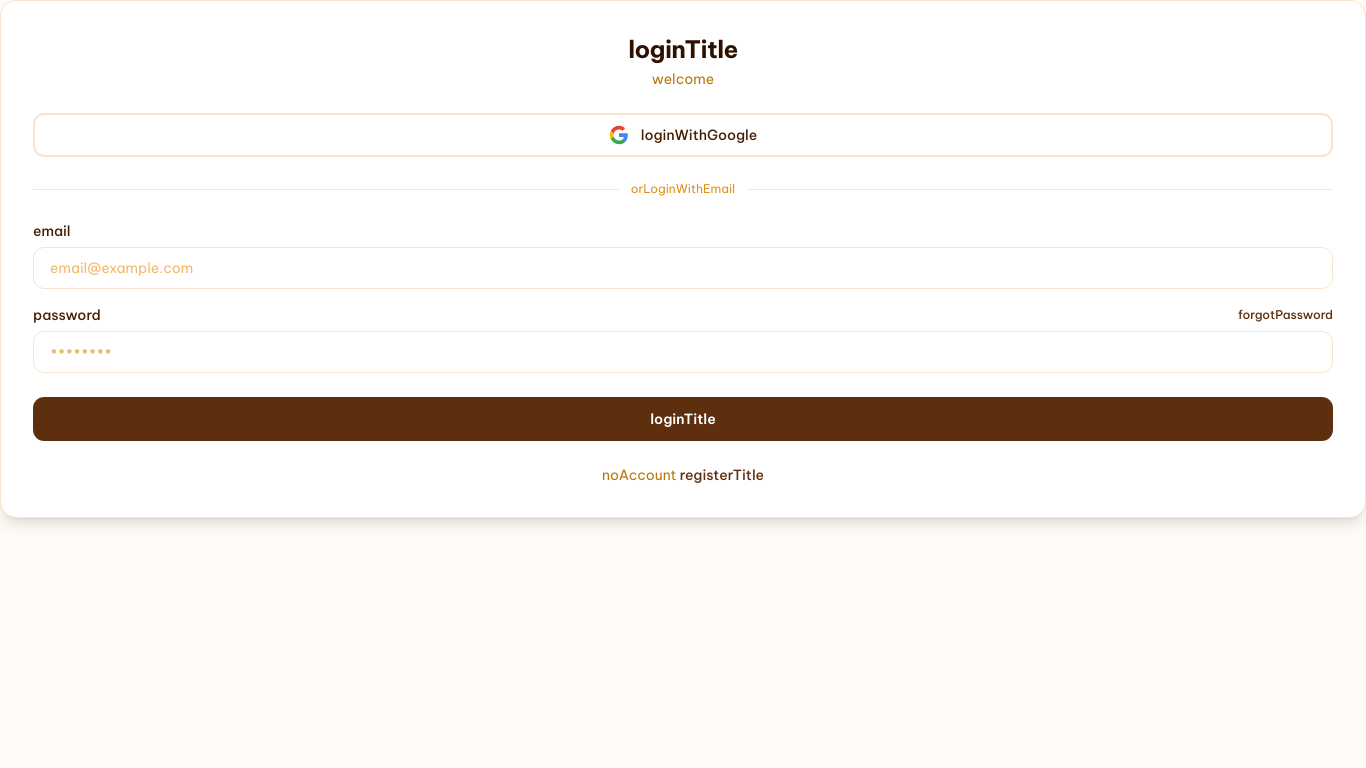
LoginPage — Validation › hiển thị lỗi khi chỉ điền password, bỏ trống email
Type "password123" into the password field labelled "password" at coordinates (683, 352), box top-left (33, 331), bottom-right (1333, 373)
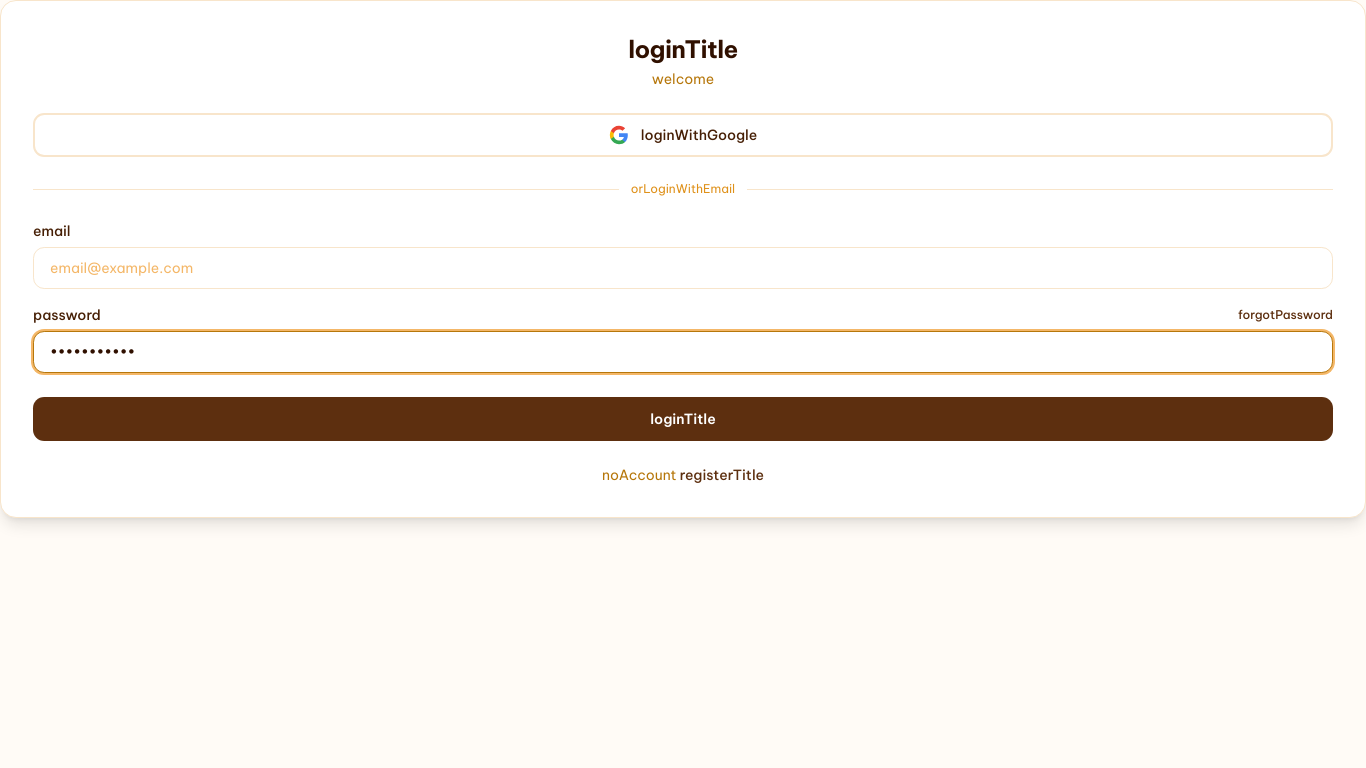
Click the button "loginTitle" at coordinates (683, 419), box top-left (33, 397), bottom-right (1333, 441)
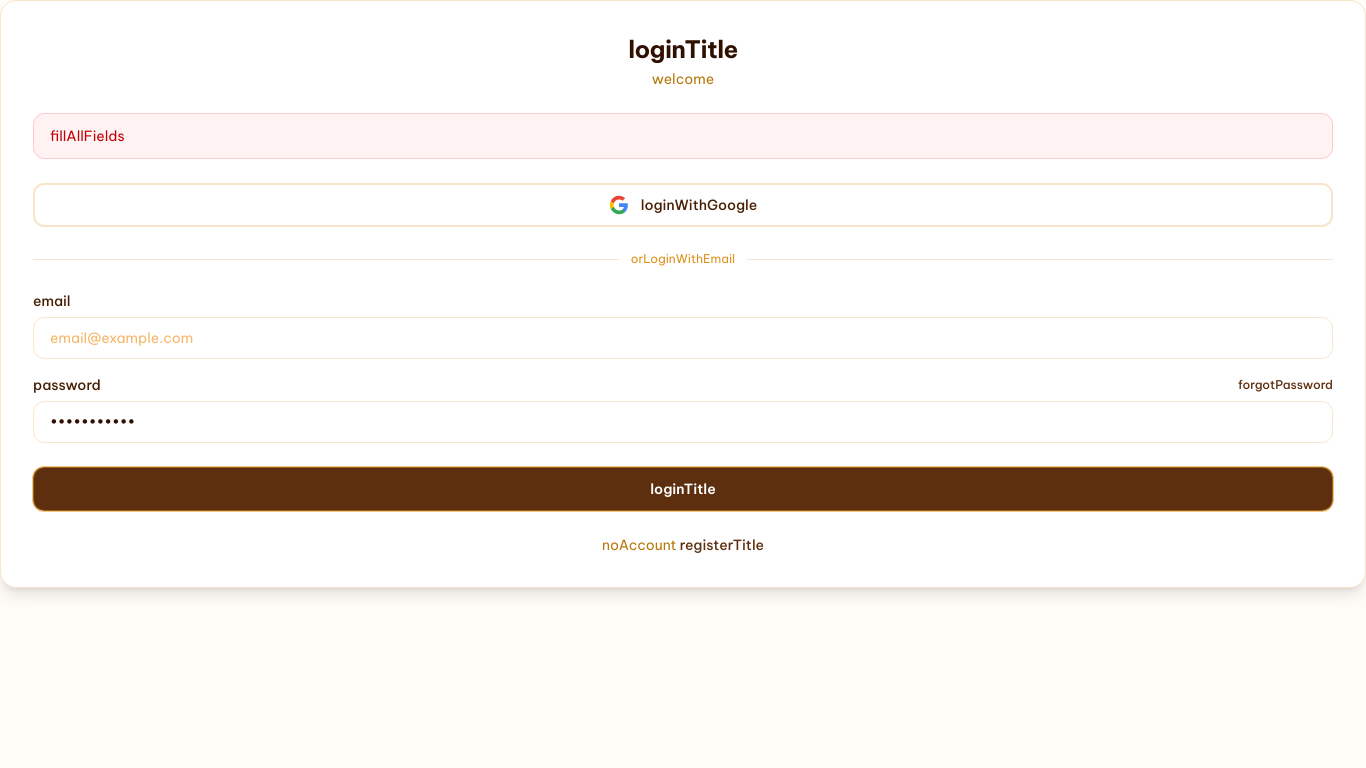
Expected: the text "fillAllFields" is shown, top-left (33, 113), bottom-right (1333, 159)
